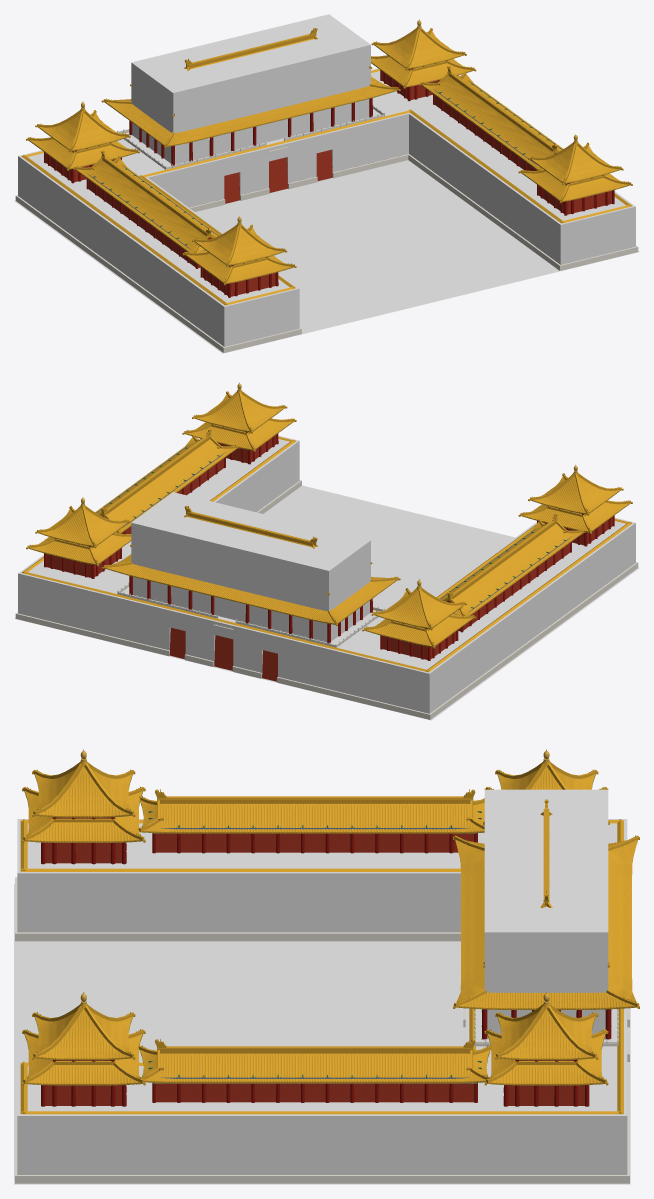
Rendered from wumen.glb.
The picture shows the model from 3 angles, top to bottom: view 1: azimuth 30°, elevation 25°; view 2: azimuth 150°, elevation 25°; view 3: azimuth 270°, elevation 25°; orthographic projection. The views are drawn at different scales.
Visible parts, largest first — view 1: FOOTPRINT_wumen, Halls, Massing, COL_hall, COL_wing.001, COL_wing, Platform, COL_pier, COL_pier.003, COL_pier.002, COL_pier.001; view 2: Halls, Massing, COL_hall, FOOTPRINT_wumen, COL_pier, COL_wing, COL_pier.003, Platform, COL_wing.001, COL_pier.002, COL_pier.001; view 3: Halls, Massing, FOOTPRINT_wumen, COL_wing, COL_wing.001, COL_hall, Platform, COL_pier.003.
Boxes of the visible parts, box(x1,y1,x2,y2) form: FOOTPRINT_wumen: box(14, 160, 639, 353); Halls: box(26, 19, 632, 285); Massing: box(30, 20, 628, 296); COL_hall: box(131, 14, 370, 164); COL_wing.001: box(409, 107, 635, 264); COL_wing: box(72, 177, 299, 346); Platform: box(15, 69, 638, 352); COL_pier: box(18, 129, 224, 235); COL_pier.003: box(326, 68, 437, 176); COL_pier.002: box(282, 132, 316, 183); COL_pier.001: box(235, 143, 268, 198); Halls: box(26, 383, 632, 648); Massing: box(30, 383, 628, 681); COL_hall: box(131, 492, 370, 642); FOOTPRINT_wumen: box(14, 485, 639, 720); COL_pier: box(278, 607, 484, 713); COL_wing: box(435, 517, 635, 673); COL_pier.003: box(18, 546, 175, 652); Platform: box(15, 436, 638, 719); COL_wing.001: box(125, 435, 299, 547); COL_pier.002: box(185, 610, 219, 660); COL_pier.001: box(233, 621, 266, 674); Halls: box(22, 749, 639, 1085); Massing: box(25, 750, 637, 1105); FOOTPRINT_wumen: box(14, 883, 630, 1184); COL_wing: box(17, 819, 460, 932); COL_wing.001: box(17, 1061, 465, 1174); COL_hall: box(484, 789, 608, 1038); Platform: box(15, 819, 629, 1183); COL_pier.003: box(465, 1008, 627, 1174).
Bounding box in the file's own units: 127 × 36.95 × 111.
8 materials, 3 textured.
